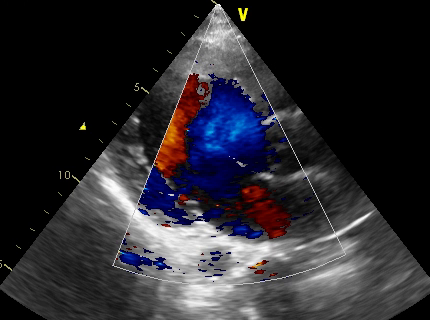MR: (177, 148, 238, 214)
